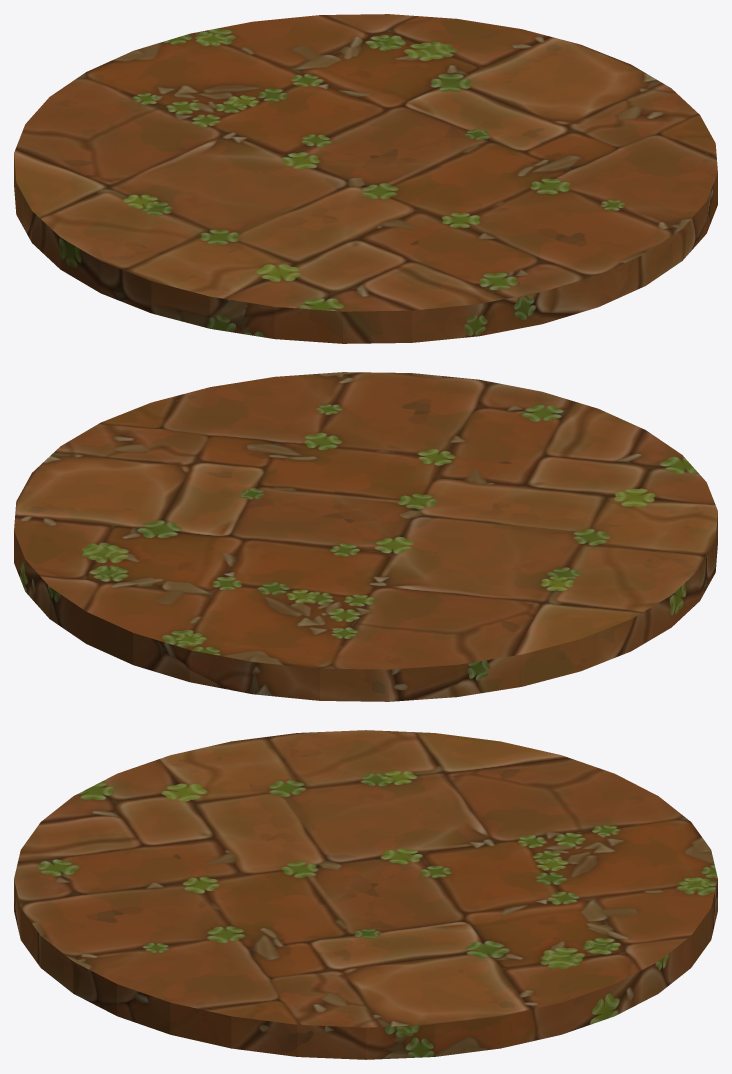
File: TestArena.fbx
The picture shows the model from 3 angles, top to bottom: view 1: azimuth 30°, elevation 25°; view 2: azimuth 150°, elevation 25°; view 3: azimuth 270°, elevation 25°; orthographic projection.
Visible parts, largest first — view 1: Circle; view 2: Circle; view 3: Circle.
Part boxes in pixels (box(x1,y1,x2,y2)): Circle: box(14, 14, 717, 343); Circle: box(14, 372, 717, 701); Circle: box(14, 730, 717, 1059).
Size of the model in its own units: 1998 by 101 by 1998.
